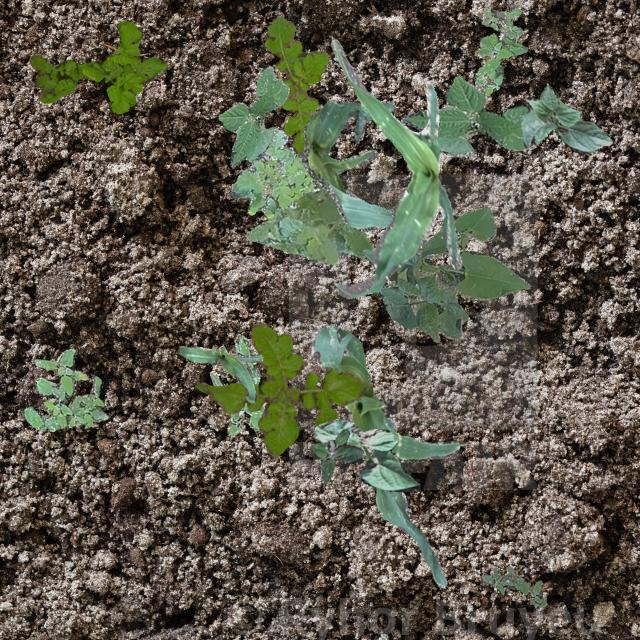crop: (310, 322, 462, 586), (330, 39, 460, 298), (360, 206, 530, 342), (301, 100, 394, 230), (402, 76, 528, 156), (314, 418, 418, 492), (218, 65, 288, 166), (520, 82, 612, 152), (178, 344, 262, 402)
weed: (196, 322, 366, 456), (28, 19, 166, 112), (248, 184, 372, 264), (264, 15, 328, 154), (230, 128, 316, 220), (22, 348, 106, 430), (208, 336, 262, 434), (474, 5, 526, 96), (310, 427, 362, 482), (482, 564, 546, 608)
